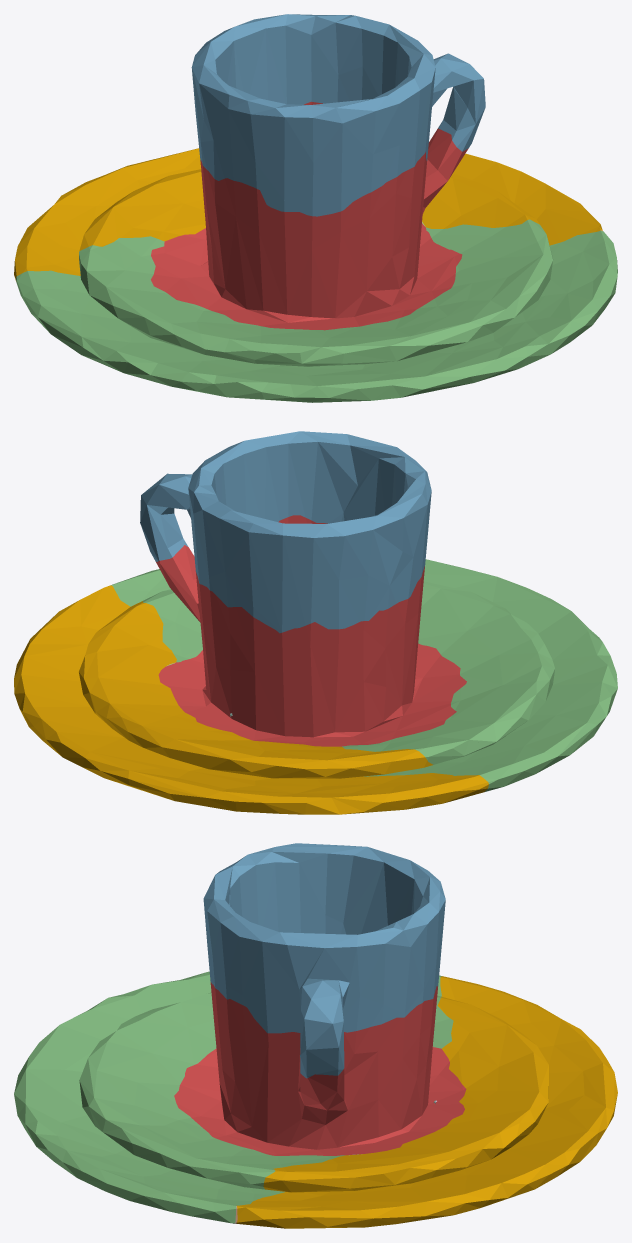
File: mode_8_8pcs.glb
3 renders of one model, top to bottom at view 1: azimuth 30°, elevation 25°; view 2: azimuth 150°, elevation 25°; view 3: azimuth 270°, elevation 25°, orthographic.
Visible parts, largest first — view 1: piece_3.obj, piece_2.obj, piece_1.obj, piece_0.obj; view 2: piece_0.obj, piece_2.obj, piece_3.obj, piece_1.obj; view 3: piece_0.obj, piece_2.obj, piece_3.obj, piece_1.obj.
Boxes of the visible parts, x1,y1,x2,y2 form: piece_3.obj: (15, 219, 617, 402); piece_2.obj: (191, 14, 485, 216); piece_1.obj: (151, 101, 468, 330); piece_0.obj: (14, 148, 602, 281); piece_0.obj: (14, 585, 488, 814); piece_2.obj: (140, 431, 431, 633); piece_3.obj: (111, 559, 617, 791); piece_1.obj: (156, 515, 466, 746); piece_0.obj: (236, 976, 617, 1228); piece_2.obj: (203, 843, 445, 1078); piece_3.obj: (14, 971, 453, 1223); piece_1.obj: (174, 982, 466, 1155).
Size of the model in its own units: 0.9934 by 0.4456 by 1.
